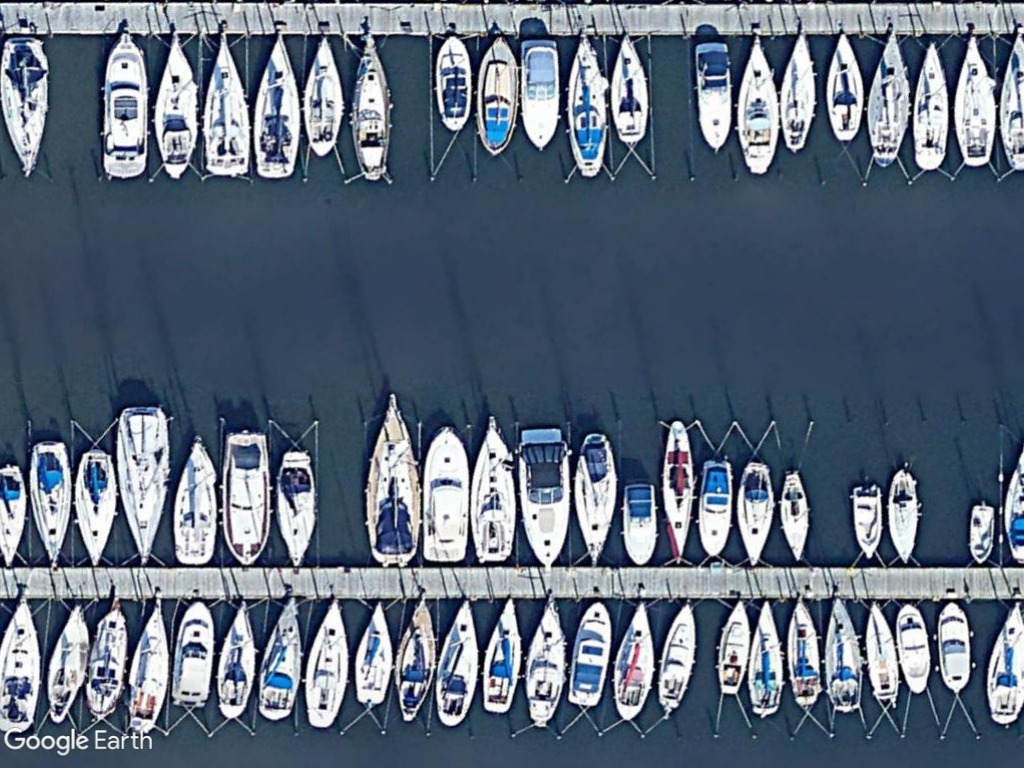boat: (356, 394, 426, 567), (113, 402, 173, 567), (511, 424, 575, 568), (94, 31, 154, 181), (198, 29, 255, 182), (149, 33, 204, 182), (466, 421, 521, 569), (344, 30, 396, 184), (859, 26, 914, 168), (561, 31, 613, 181), (218, 427, 272, 569), (419, 422, 472, 566), (0, 34, 51, 183), (731, 32, 783, 178), (251, 33, 301, 181), (252, 594, 309, 723), (167, 434, 222, 566), (948, 30, 999, 172), (300, 595, 352, 733), (431, 597, 484, 731), (123, 597, 174, 735), (571, 429, 620, 568), (469, 32, 522, 160), (271, 445, 322, 574), (388, 592, 437, 726), (80, 601, 132, 725), (522, 597, 569, 734), (210, 595, 259, 726), (26, 438, 74, 569), (655, 416, 696, 568), (477, 593, 528, 715), (908, 36, 953, 172), (0, 596, 44, 735), (515, 34, 565, 156), (41, 601, 90, 725), (72, 445, 122, 566), (775, 27, 821, 158), (607, 598, 655, 722), (817, 596, 866, 717), (602, 28, 652, 146), (561, 598, 612, 711), (302, 32, 347, 160), (169, 594, 219, 709), (819, 26, 866, 146), (688, 37, 736, 153), (780, 594, 824, 715), (654, 600, 699, 713), (429, 30, 476, 138), (857, 596, 902, 708), (350, 596, 394, 710), (732, 460, 777, 571), (888, 596, 935, 697), (746, 598, 784, 720), (881, 463, 924, 569), (693, 455, 735, 561), (773, 467, 816, 564), (934, 600, 975, 697), (712, 598, 752, 696), (619, 479, 662, 569), (847, 481, 885, 566), (965, 501, 999, 567)
